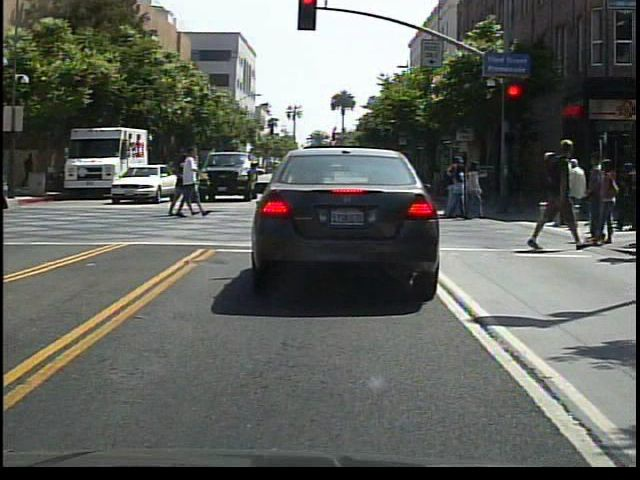person: (526, 132, 589, 264), (555, 155, 590, 235), (170, 150, 206, 226), (288, 154, 322, 215)
